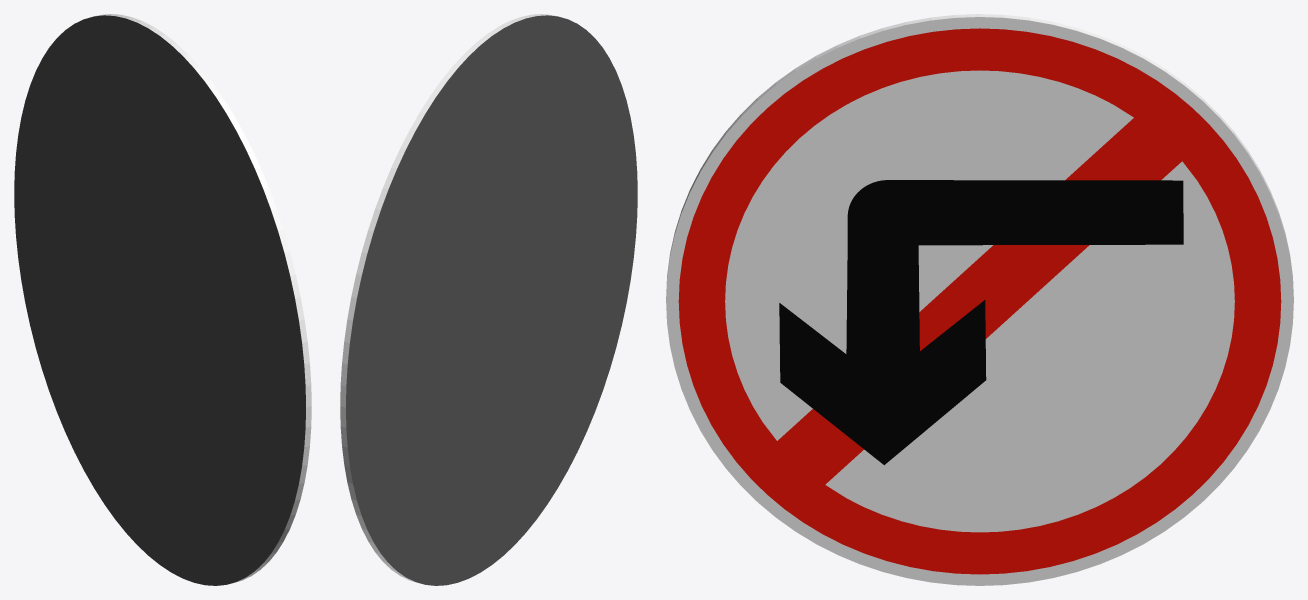
File: 禁止左转.gltf
The picture shows the model from 3 angles, left to right: view 1: azimuth 30°, elevation 25°; view 2: azimuth 150°, elevation 25°; view 3: azimuth 270°, elevation 25°; orthographic projection. The views are drawn at different scales.
Parts seen in each view (by area): view 1: 圆环; view 2: 圆环; view 3: 圆环, BezierCurve.002.
Part boxes in pixels (bbox=[...]): 圆环: bbox=[14, 14, 311, 585]; 圆环: bbox=[340, 14, 637, 585]; 圆环: bbox=[666, 14, 1293, 585]; BezierCurve.002: bbox=[779, 180, 1183, 465].
Bounding box in the file's own units: 0.0101 × 0.8 × 0.8.
